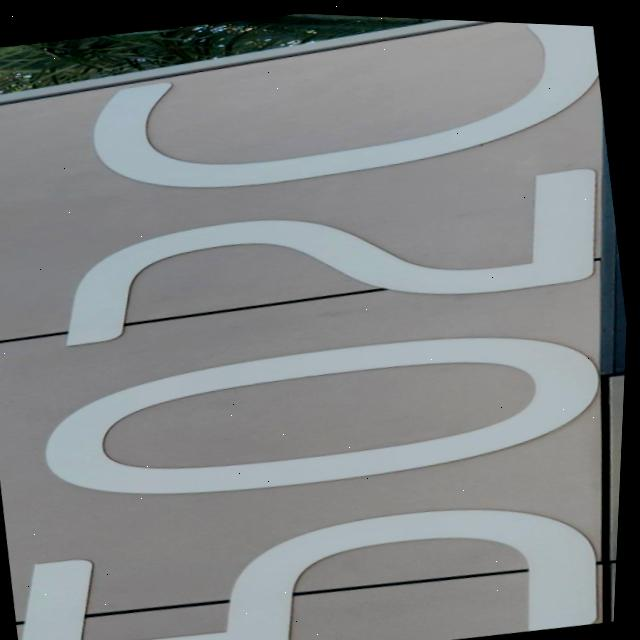character: (23, 290, 614, 540), (40, 138, 619, 374), (70, 4, 612, 227), (5, 461, 617, 640)
